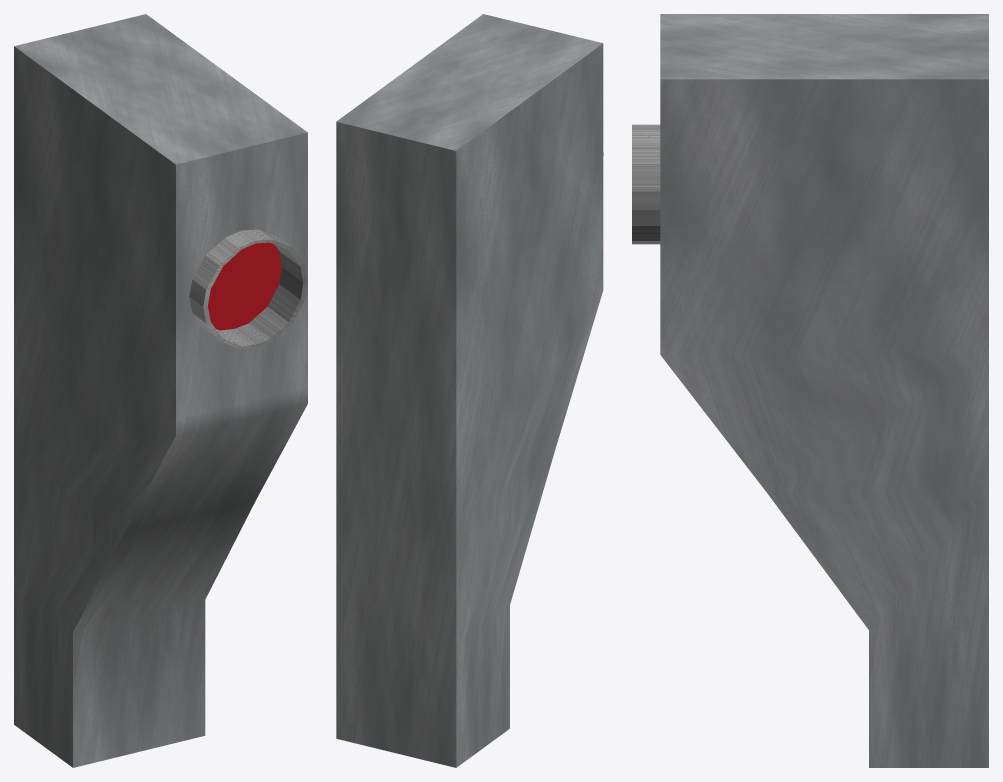
Rendered from czujniki.FBX.
3 views of the same model, side by side, from view 1: azimuth 30°, elevation 25°; view 2: azimuth 150°, elevation 25°; view 3: azimuth 270°, elevation 25° (orthographic). The views are drawn at different scales.
Parts seen in each view (by area): view 1: Box833; view 2: Box833; view 3: Box833.
Boxes of the visible parts, x1,y1,x2,y2 form: Box833: (14,14,307,767); Box833: (336,14,603,767); Box833: (632,14,988,767).
Bounding box in the file's own units: 0.4665 × 2.29 × 1.08.
Materials: 3 (3 with a texture image).
